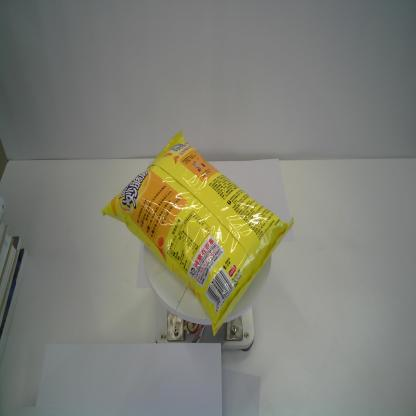Puffed Food: (101, 129, 295, 338)
